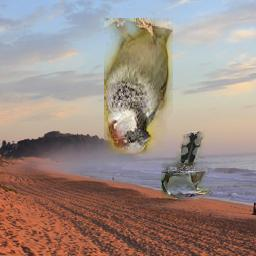Cuckoo: (161, 131, 211, 199)
Sparrow: (105, 18, 174, 154)
